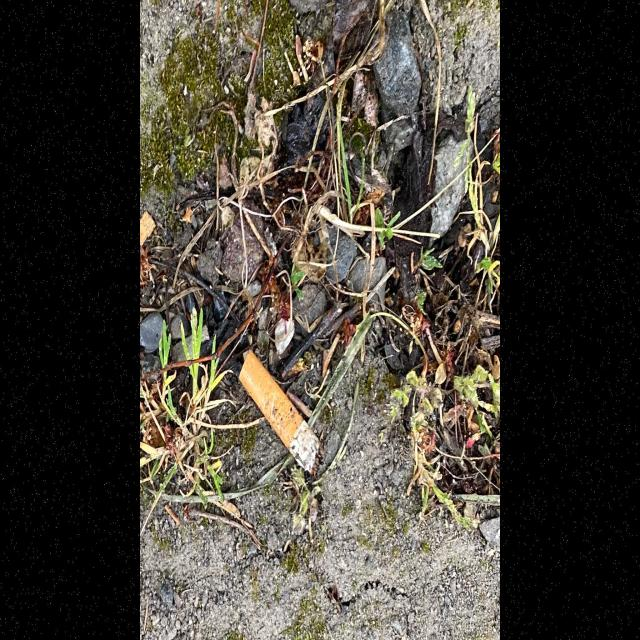other waste: (238, 348, 321, 472)
